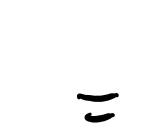eqv: (74, 88, 122, 125)
